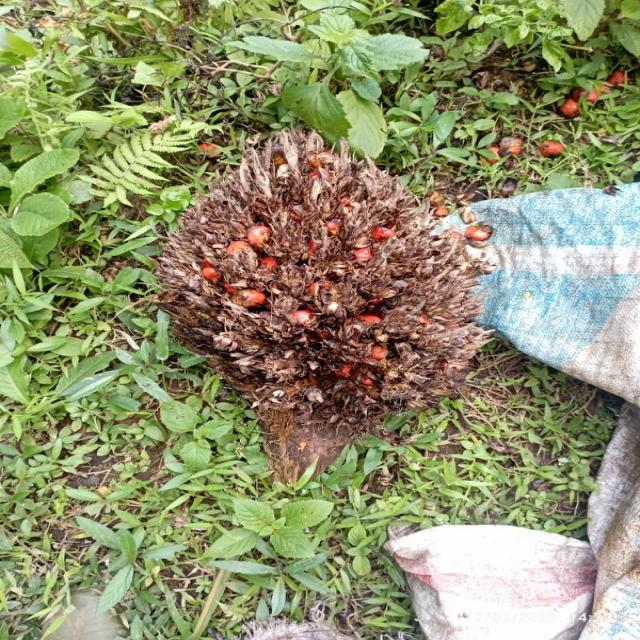fraksi 4: (119, 93, 523, 454)
